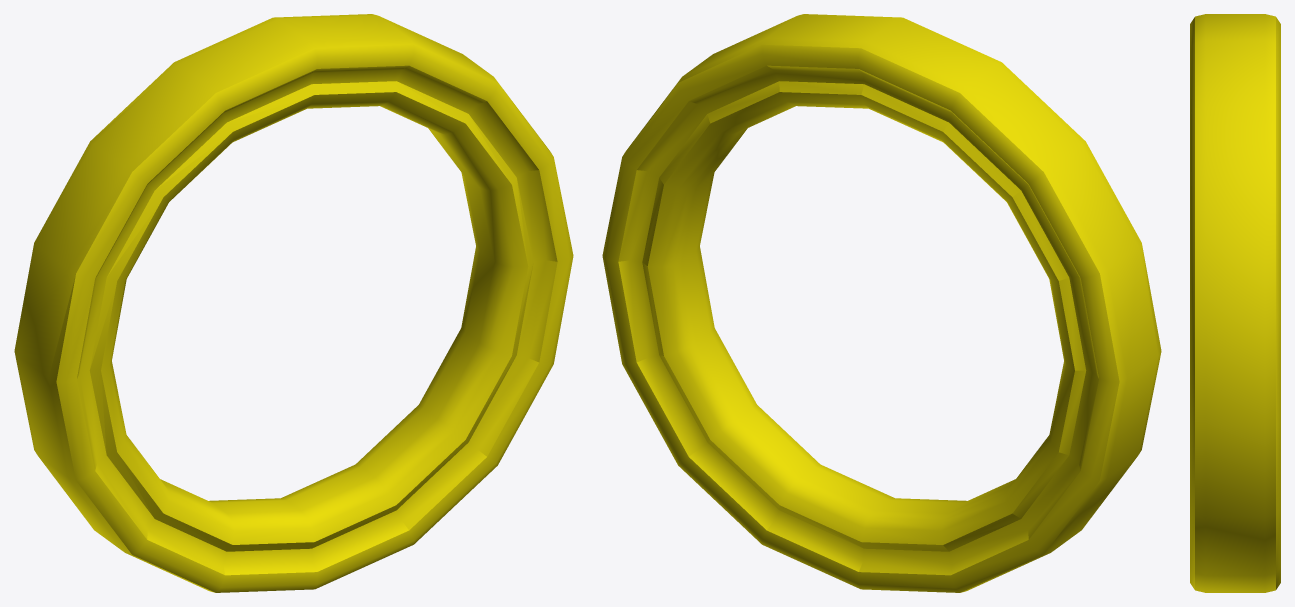
File: ring.fbx
3 views of the same model, side by side, from view 1: azimuth 30°, elevation 25°; view 2: azimuth 150°, elevation 25°; view 3: azimuth 270°, elevation 25° (orthographic). The views are drawn at different scales.
Parts seen in each view (by area): view 1: sonic ring; view 2: sonic ring; view 3: sonic ring.
Boxes of the visible parts, box(x1,y1,x2,y2) form: sonic ring: box(14, 14, 573, 592); sonic ring: box(602, 14, 1161, 592); sonic ring: box(1190, 14, 1280, 592).
Size of the model in its own units: 35 by 35 by 5.5.
